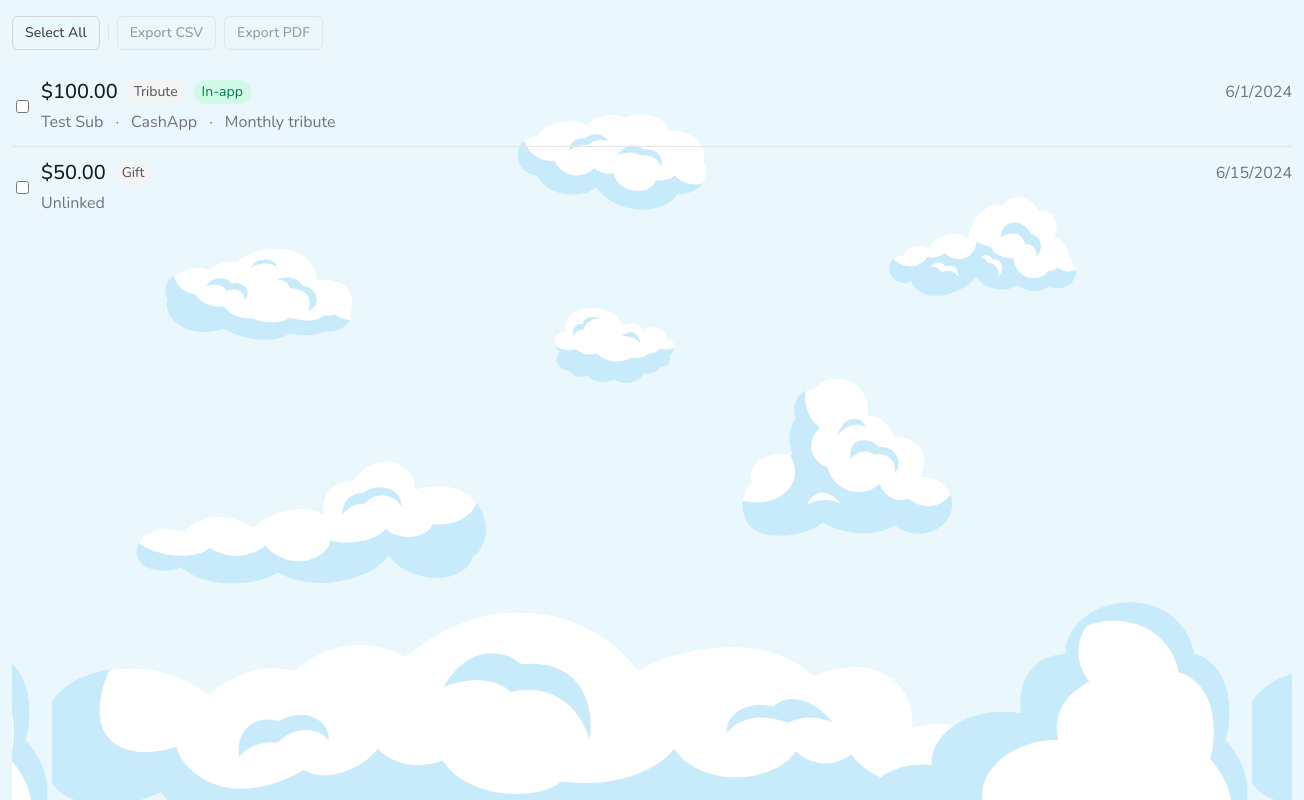
Test: FinancialsList › toggles checkbox selection
The width and height of the screenshot is (1304, 800).
Step 1. Click the checkbox next to "$100.00" → click(22, 106), box x1=16 y1=100 x2=29 y2=112
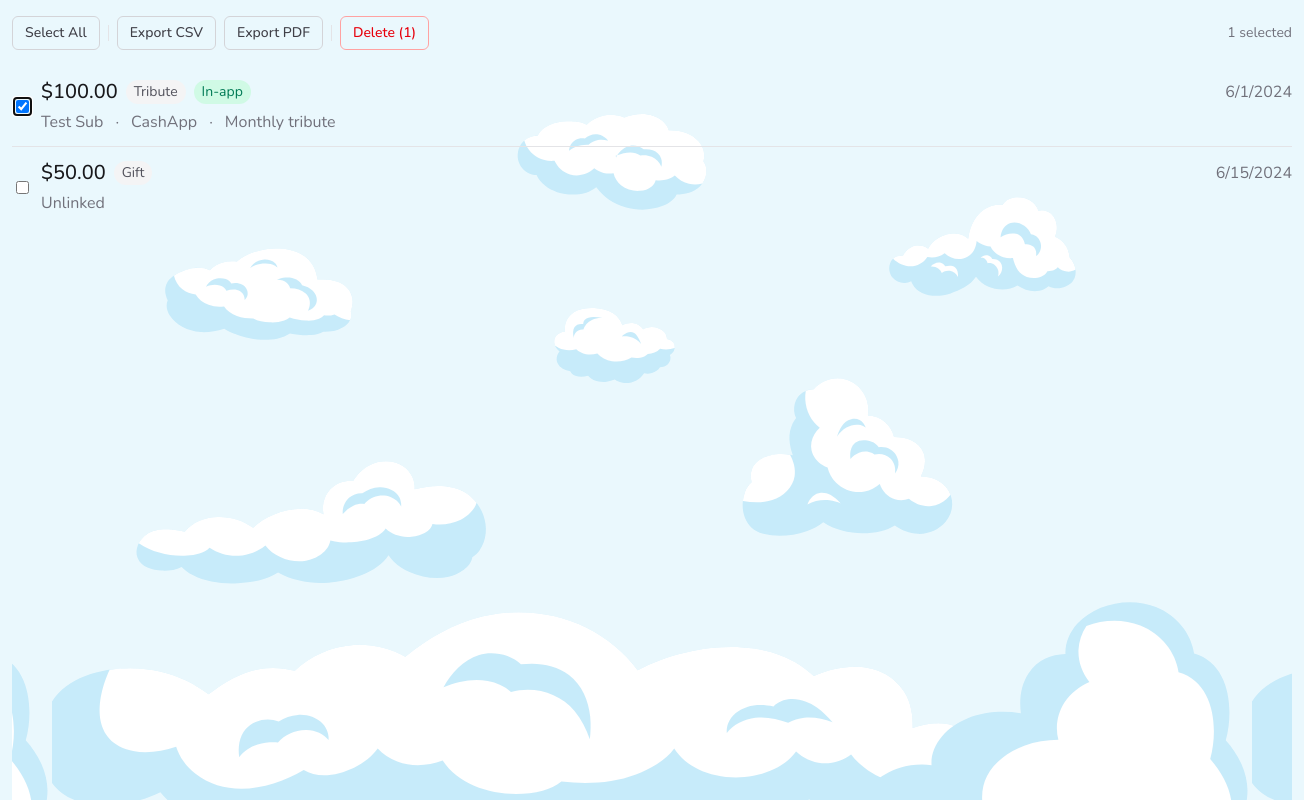
Result: the text "1 selected" is shown at x1=1227 y1=23 x2=1292 y2=43
Result: the button "Delete (1)" is shown at x1=340 y1=16 x2=429 y2=50
